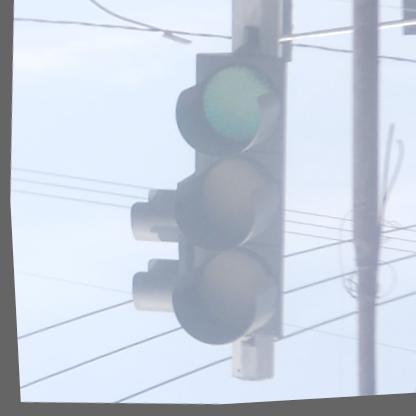green: (155, 52, 301, 356)
